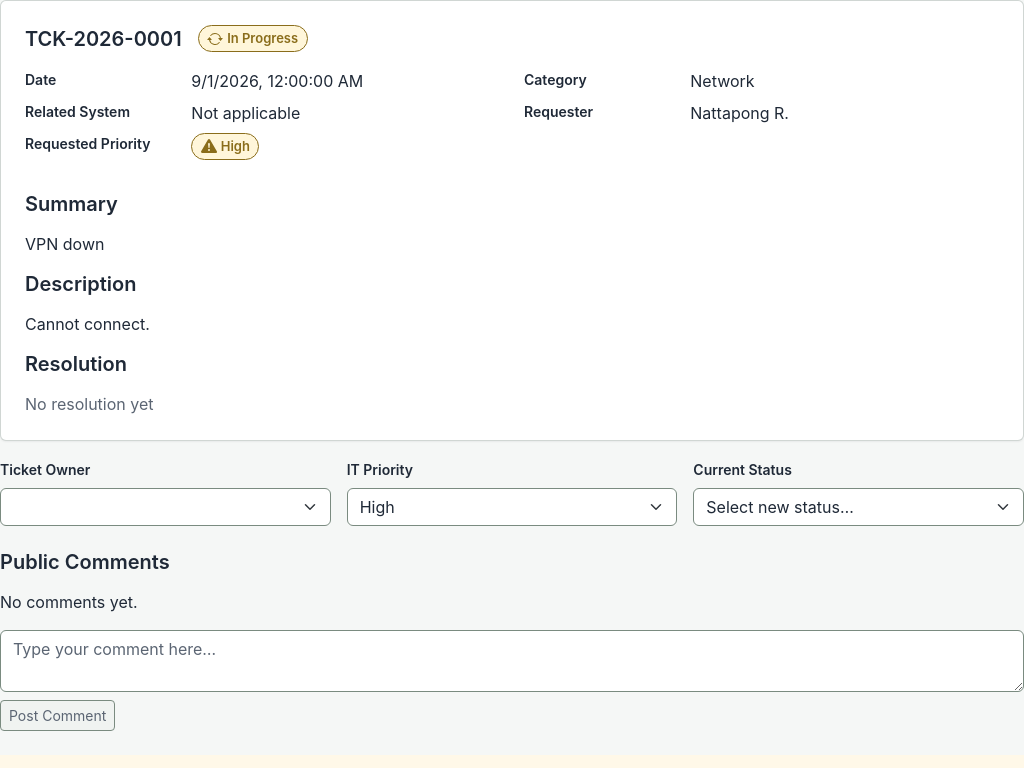
Test: Staff status change: resolution gate message (FR-06, ui-spec section 4) › CMP-18 an unrelated status failure keeps the existing fallback message
Select "Resolved" in the dropdown labelled "Current Status" at (859, 507), box [693,488,1023,526]
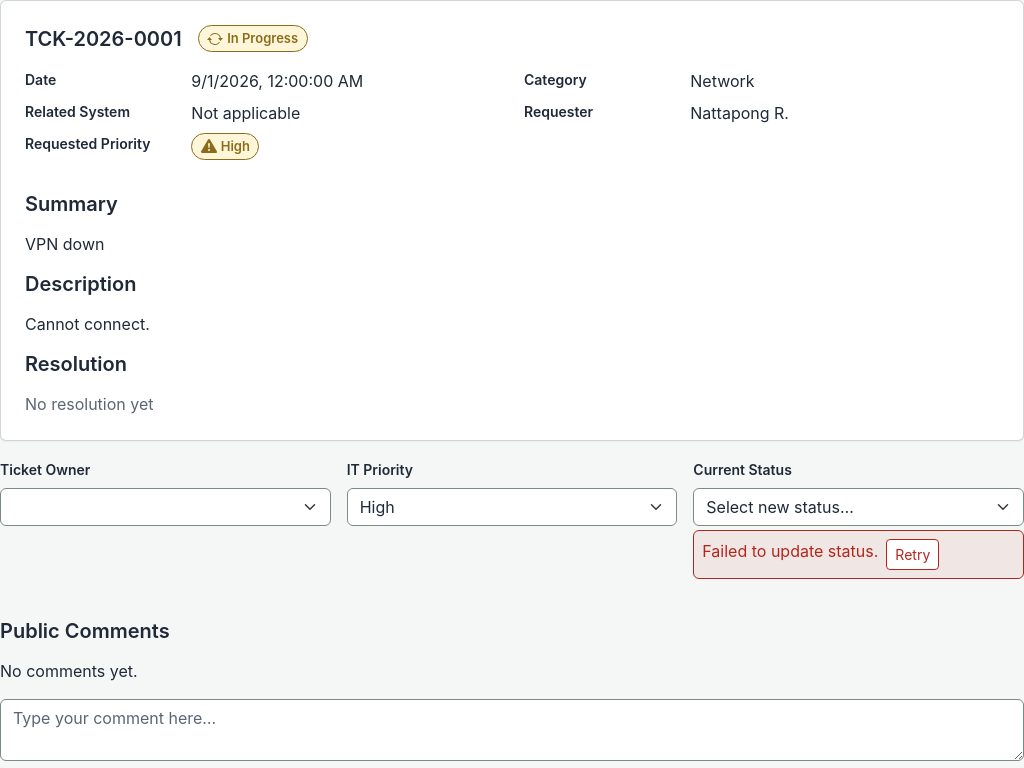
Now the text "Failed to update status." is shown, box [702,539,878,563]
